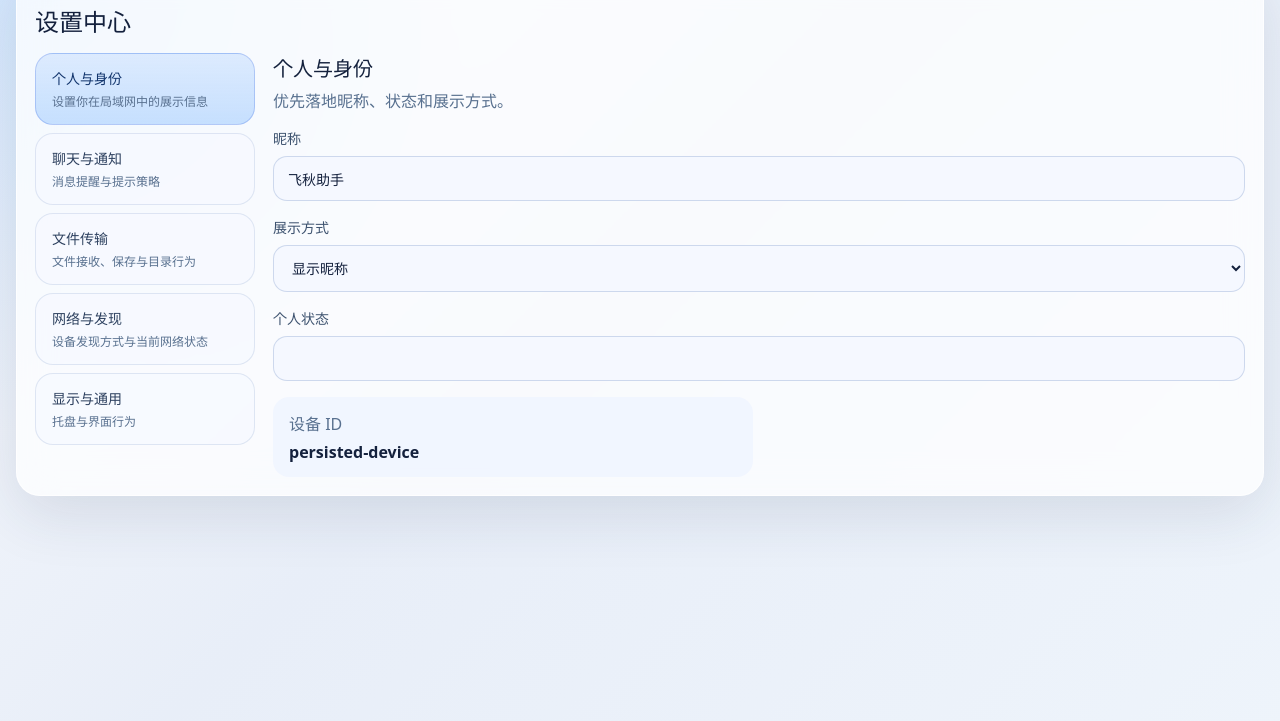
Test: shows targeted troubleshooting suggestions for permission related refresh failures
Click the button "网络与发现 设备发现方式与当前网络状态" at (145, 329), box 35,293 -> 255,365
(page scrolled)
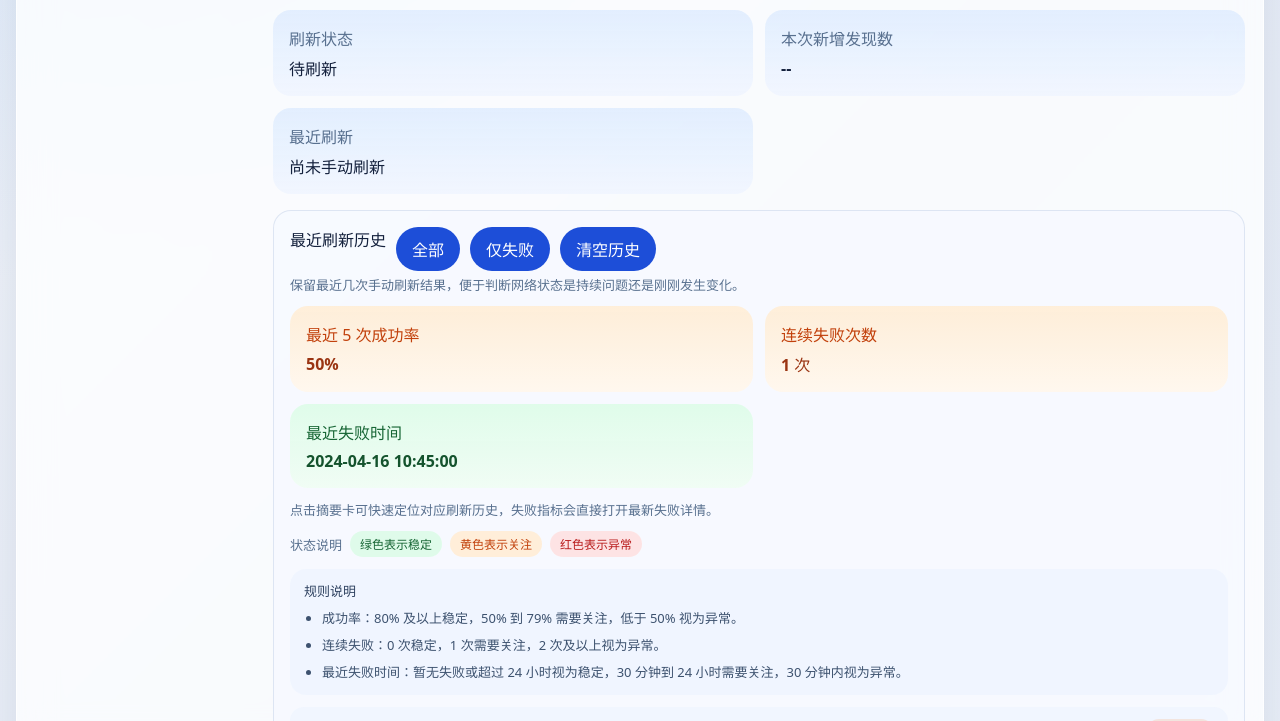
Click the button "连续失败次数 1 次" at (829, 335), box 781,322 -> 1212,376
(page scrolled)
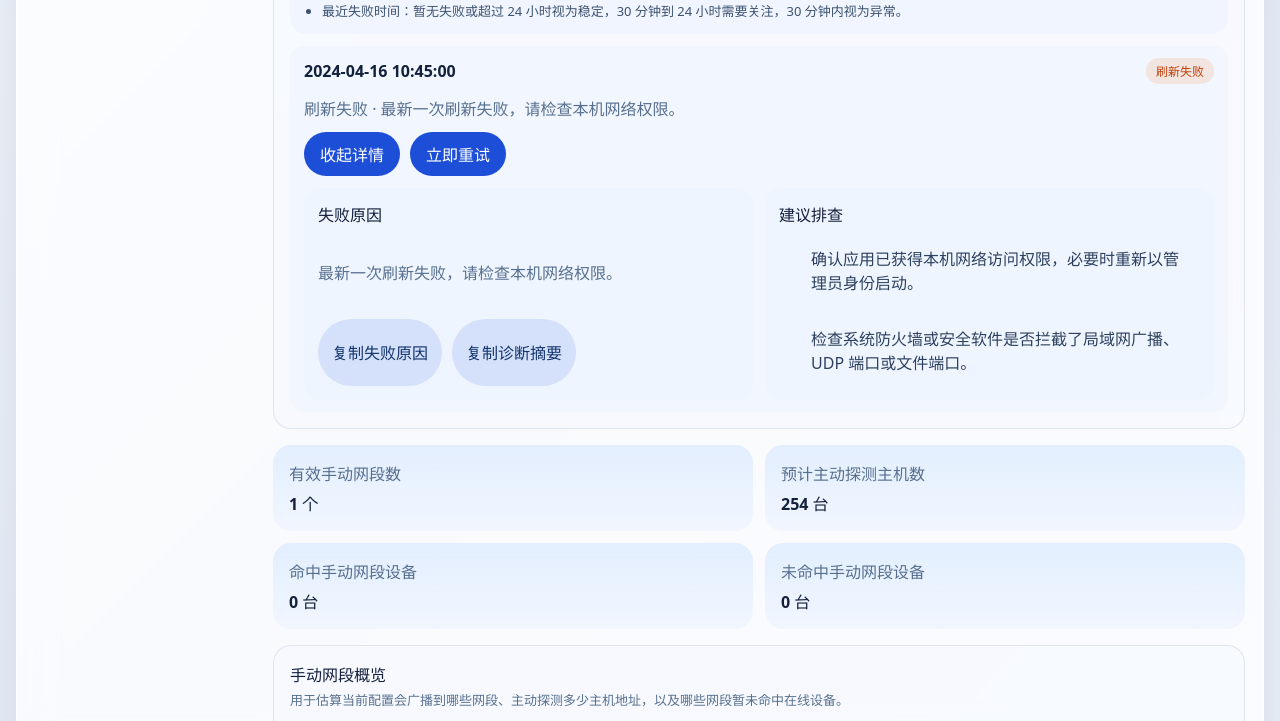
Expected: the text "建议排查" is shown, 779,204 -> 843,226
Expected: the list item "确认应用已获得本机网络访问权限，必要时重新以管理员身份启动。" is shown, 797,234 -> 1200,306
Expected: the list item "检查系统防火墙或安全软件是否拦截了局域网广播、UDP 端口或文件端口。" is shown, 797,314 -> 1200,386
